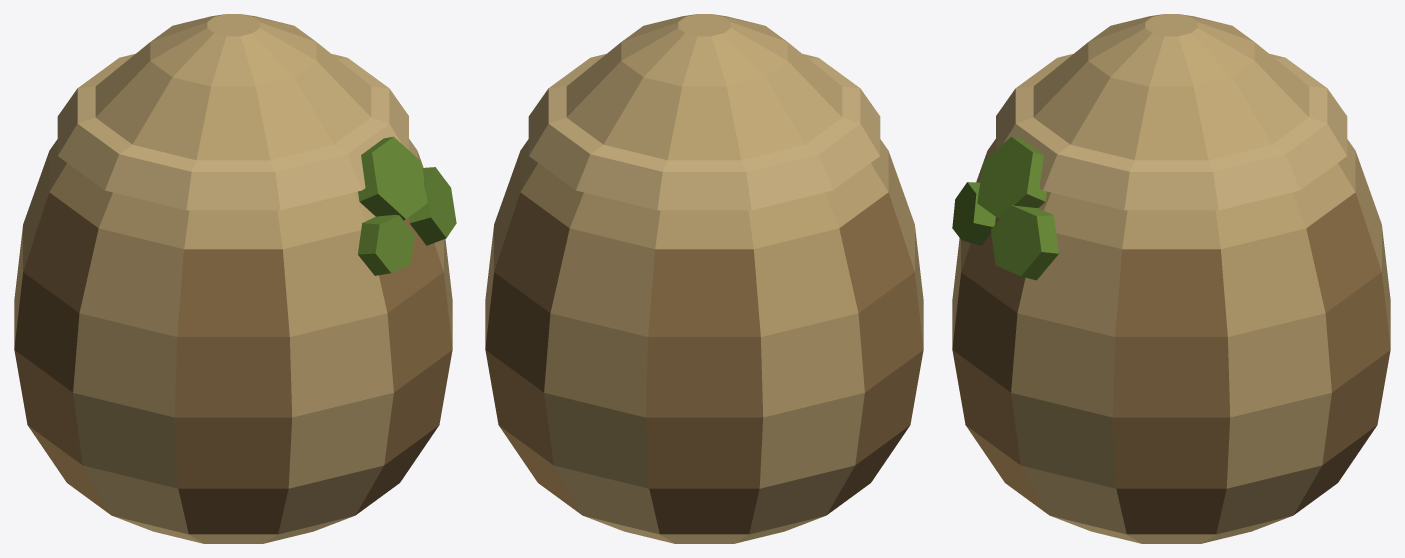
File: RuinsColumn.fbx
3 views of the same model, side by side, from view 1: azimuth 30°, elevation 25°; view 2: azimuth 150°, elevation 25°; view 3: azimuth 270°, elevation 25° (orthographic).
Parts seen in each view (by area): view 1: Body; view 2: Body; view 3: Body.
Boxes of the visible parts, left/top/right/bottom form: Body: left=14, top=14, right=456, bottom=543; Body: left=485, top=14, right=923, bottom=543; Body: left=952, top=14, right=1390, bottom=543.
Size of the model in its own units: 4.64 by 5.52 by 4.64.
